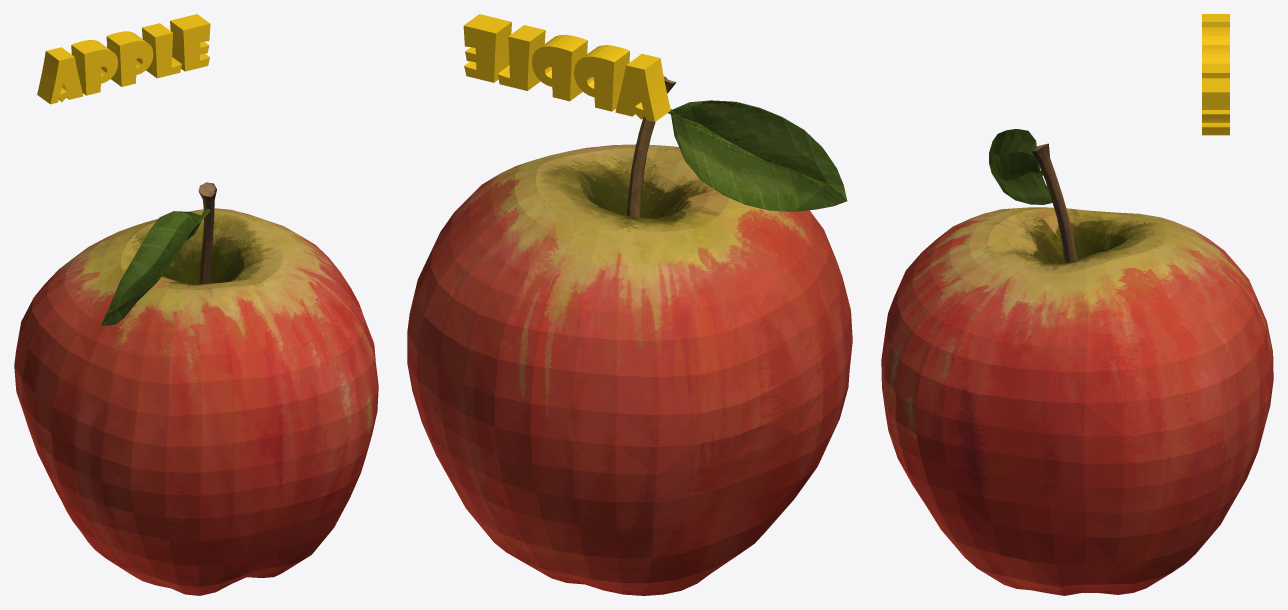
Rendered from asset.glb.
3 renders of one model, left to right at view 1: azimuth 30°, elevation 25°; view 2: azimuth 150°, elevation 25°; view 3: azimuth 270°, elevation 25°, orthographic. The views are drawn at different scales.
Visible parts, largest first — view 1: 3MFMeshParent_0, 3MFMeshParent_1; view 2: 3MFMeshParent_0, 3MFMeshParent_1; view 3: 3MFMeshParent_0, 3MFMeshParent_1.
Part boxes in pixels (left/top/right/bottom): 3MFMeshParent_0: left=14, top=182, right=378, bottom=595; 3MFMeshParent_1: left=37, top=14, right=210, bottom=104; 3MFMeshParent_0: left=407, top=76, right=852, bottom=595; 3MFMeshParent_1: left=463, top=14, right=670, bottom=121; 3MFMeshParent_0: left=881, top=129, right=1273, bottom=595; 3MFMeshParent_1: left=1202, top=14, right=1229, bottom=135.
Size of the model in its own units: 0.252 by 0.3765 by 0.2612.
Materials: 2 (1 with a texture image).
